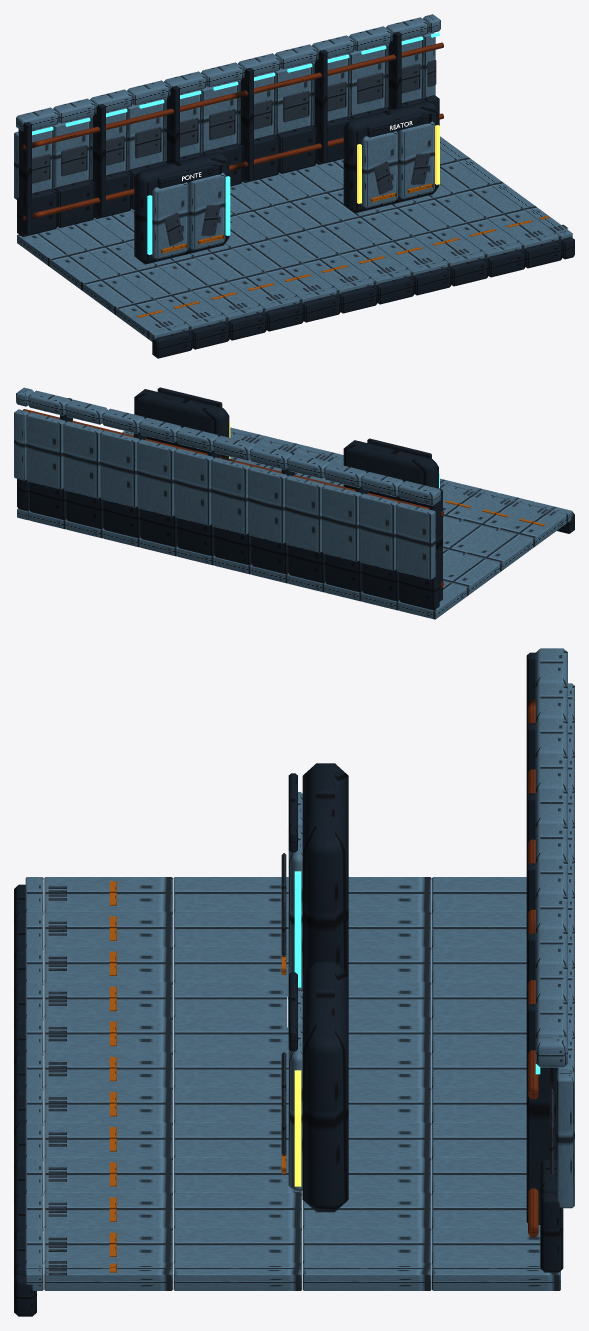
Rendered from colossal-hangar-portas.glb.
3 views of the same model, one above another, from view 1: azimuth 30°, elevation 25°; view 2: azimuth 150°, elevation 25°; view 3: azimuth 270°, elevation 25° (orthographic). The views are drawn at different scales.
Parts seen in each view (by area): view 1: Chapa modular do piso.110, Longarina frontal.022, Placa de inspeção.022, Tubulação longitudinal.008, Luz embutida.022, Sinalização do corredor.022, Guia de operação.002; view 2: Chapa modular do piso.110, Longarina frontal.022, Tubulação longitudinal.008, Placa de inspeção.022; view 3: Chapa modular do piso.110, Longarina frontal.022, Placa de inspeção.022, Sinalização do corredor.022, Tubulação longitudinal.008, Guia de operação.002, Luz embutida.022.
Part boxes in pixels (x1,y1,x2,y2): Chapa modular do piso.110: [14, 14, 572, 341]; Longarina frontal.022: [17, 31, 574, 358]; Placa de inspeção.022: [32, 59, 567, 327]; Tubulação longitudinal.008: [22, 42, 443, 220]; Luz embutida.022: [32, 32, 439, 254]; Sinalização do corredor.022: [136, 183, 549, 317]; Guia de operação.002: [357, 125, 439, 203]; Chapa modular do piso.110: [14, 387, 572, 619]; Longarina frontal.022: [17, 387, 574, 610]; Tubulação longitudinal.008: [23, 409, 443, 587]; Placa de inspeção.022: [241, 436, 555, 515]; Chapa modular do piso.110: [25, 648, 574, 1290]; Longarina frontal.022: [14, 652, 563, 1316]; Placa de inspeção.022: [48, 853, 554, 1275]; Sinalização do corredor.022: [109, 881, 286, 1272]; Tubulação longitudinal.008: [528, 699, 538, 1237]; Guia de operação.002: [294, 1070, 301, 1186]; Luz embutida.022: [294, 871, 540, 1074].
Size of the model in its own units: 204 by 65.5 by 122.
8 materials, 5 textured.
